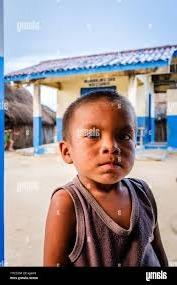Human: (49, 79, 159, 267)
